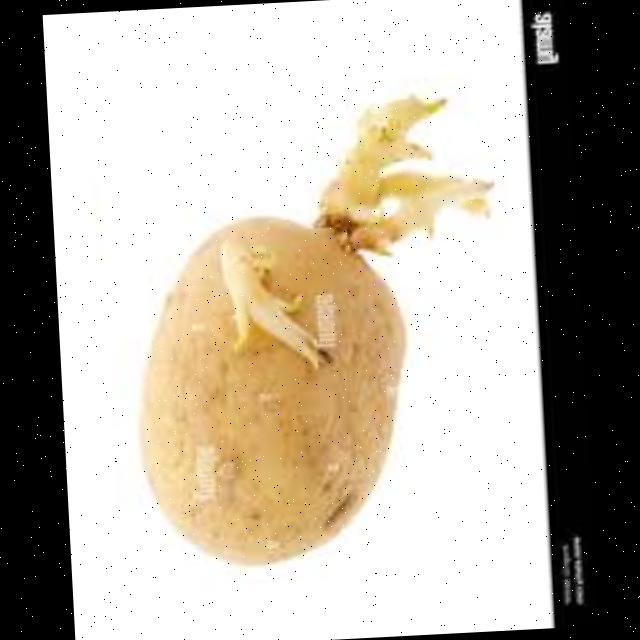Sprouted potato: (94, 60, 528, 595)
